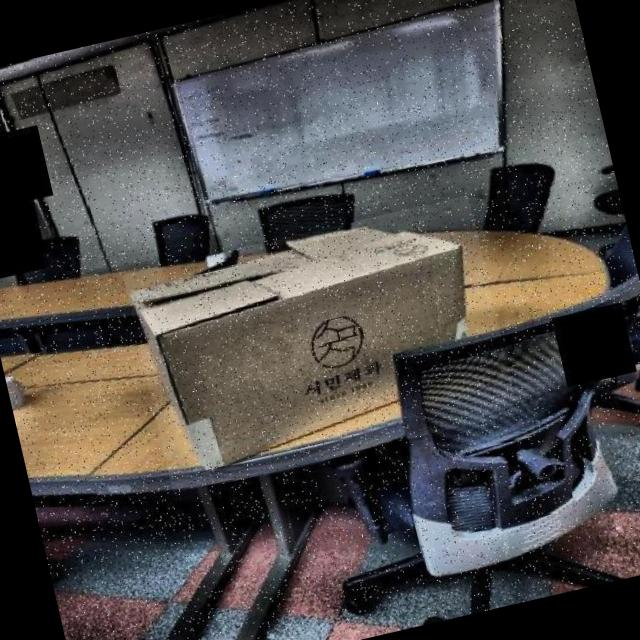box: (123, 195, 520, 492)
